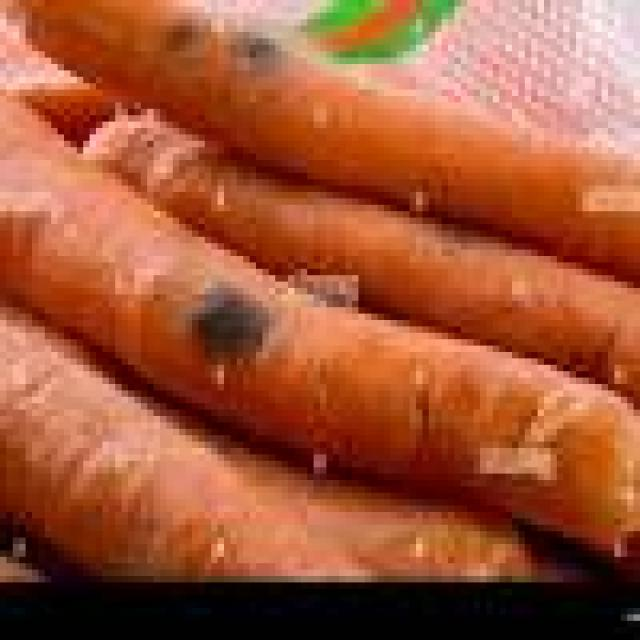Stale_Carrot: (97, 180, 454, 485), (162, 0, 494, 234)
